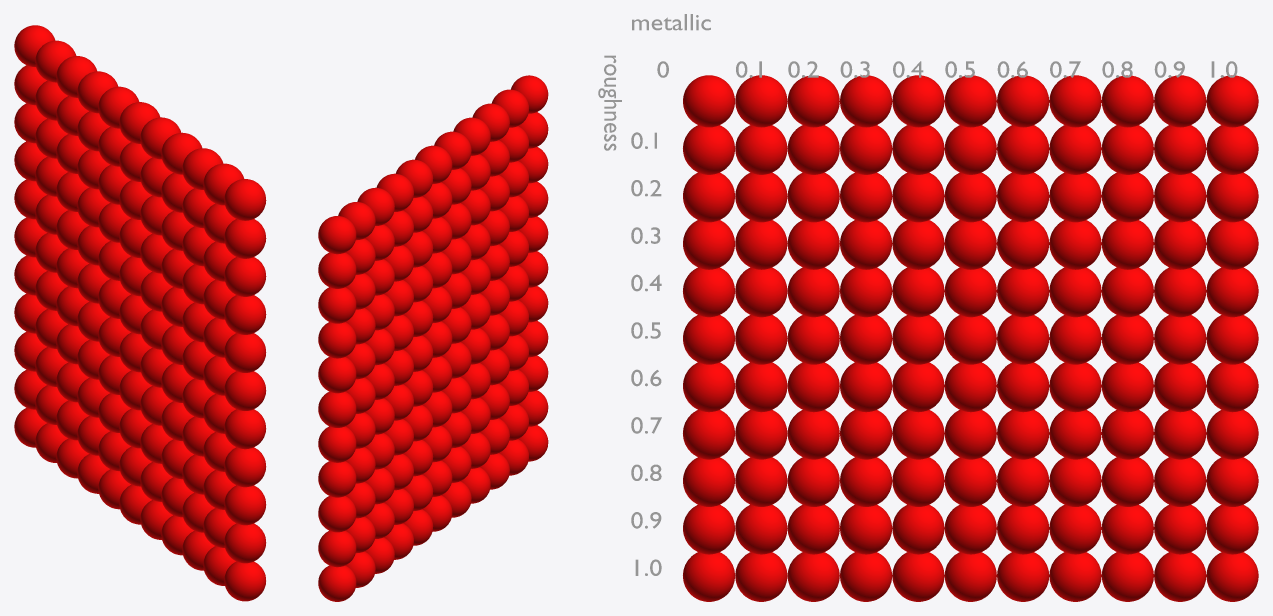
Rendered from WALL2.gltf.
The picture shows the model from 3 angles, left to right: view 1: azimuth 30°, elevation 25°; view 2: azimuth 150°, elevation 25°; view 3: azimuth 270°, elevation 25°; orthographic projection. The views are drawn at different scales.
Visible parts, largest first — view 1: Sphere, Sphere.021, Sphere.022, Sphere.088, Sphere.109, Sphere.043, Sphere.110, Sphere.087, Sphere.066, Sphere.044, Sphere.065, Sphere.003 (+109 smaller); view 2: Sphere.010, Sphere.033, Sphere.077, Sphere.099, Sphere.032, Sphere.054, Sphere.098, Sphere.011, Sphere.120, Sphere.055, Sphere.076, Sphere.002 (+109 smaller); view 3: Sphere.007, Sphere.004, Sphere.001, Sphere.009, Sphere.010, Sphere, Sphere.005, Sphere.008, Sphere.006, Sphere.003, Sphere.002, Sphere.102 (+109 smaller).
Part boxes in pixels (bbox=[...]): Sphere: bbox=[224, 179, 266, 220]; Sphere.021: bbox=[224, 219, 266, 258]; Sphere.022: bbox=[224, 257, 266, 296]; Sphere.088: bbox=[224, 485, 266, 525]; Sphere.109: bbox=[224, 523, 266, 563]; Sphere.043: bbox=[224, 295, 266, 334]; Sphere.110: bbox=[224, 561, 265, 601]; Sphere.087: bbox=[224, 447, 266, 487]; Sphere.066: bbox=[224, 409, 266, 449]; Sphere.044: bbox=[224, 333, 266, 372]; Sphere.065: bbox=[224, 371, 266, 410]; Sphere.003: bbox=[161, 132, 202, 174]; Sphere.010: bbox=[318, 216, 356, 254]; Sphere.033: bbox=[318, 322, 356, 358]; Sphere.077: bbox=[318, 461, 356, 497]; Sphere.099: bbox=[318, 530, 356, 567]; Sphere.032: bbox=[318, 287, 356, 323]; Sphere.054: bbox=[318, 357, 356, 393]; Sphere.098: bbox=[318, 496, 356, 532]; Sphere.011: bbox=[318, 252, 356, 288]; Sphere.120: bbox=[318, 565, 356, 601]; Sphere.055: bbox=[318, 391, 356, 427]; Sphere.076: bbox=[318, 426, 356, 462]; Sphere.002: bbox=[472, 103, 509, 141]; Sphere.007: bbox=[1049, 75, 1101, 127]; Sphere.004: bbox=[892, 75, 944, 127]; Sphere.001: bbox=[735, 75, 787, 127]; Sphere.009: bbox=[1154, 75, 1206, 127]; Sphere.010: bbox=[1206, 75, 1258, 127]; Sphere: bbox=[683, 75, 734, 127]; Sphere.005: bbox=[944, 75, 996, 127]; Sphere.008: bbox=[1101, 75, 1153, 127]; Sphere.006: bbox=[997, 75, 1049, 127]; Sphere.003: bbox=[840, 75, 892, 127]; Sphere.002: bbox=[787, 76, 839, 127]; Sphere.102: bbox=[1049, 504, 1101, 554].
Bounding box in the file's own units: 2 × 24.68 × 25.23.
